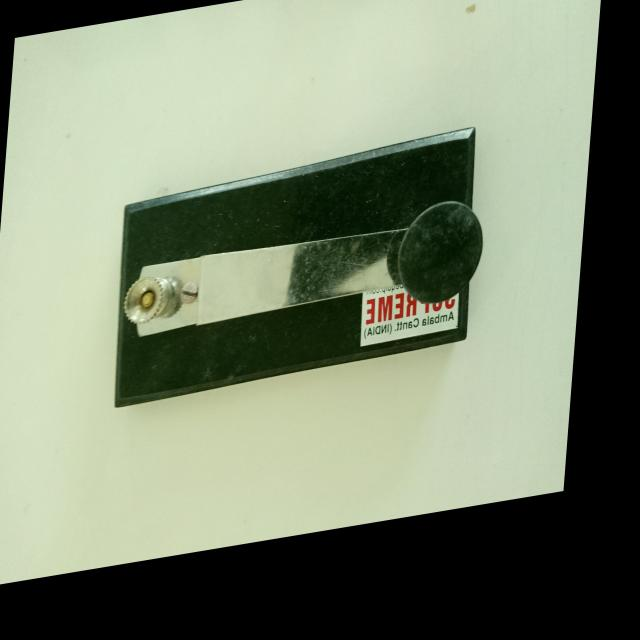Press Key: (97, 125, 496, 423)
